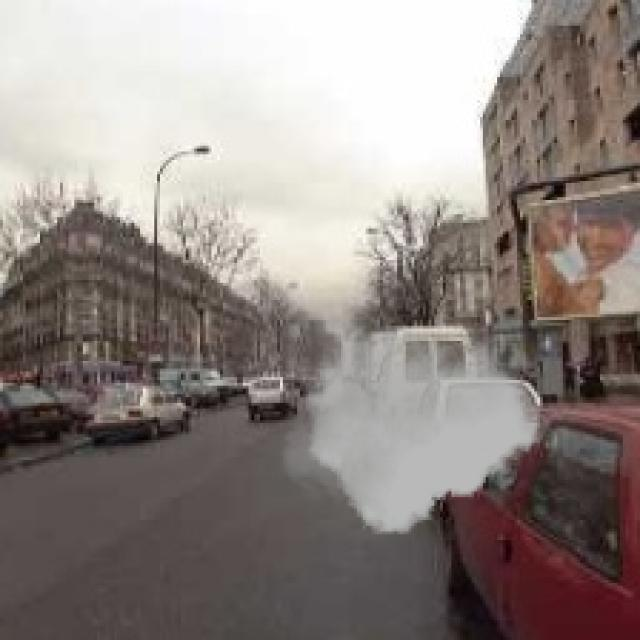smoke: (274, 326, 546, 534)
